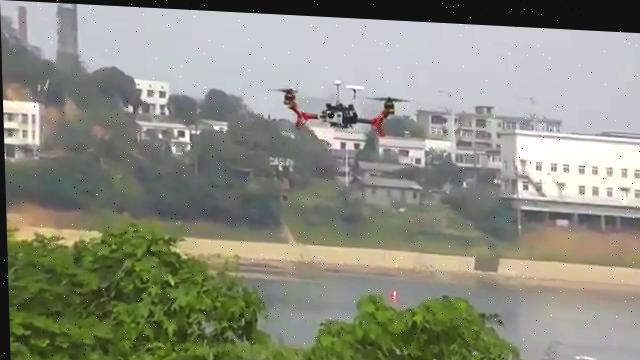drone: (260, 70, 416, 137)
